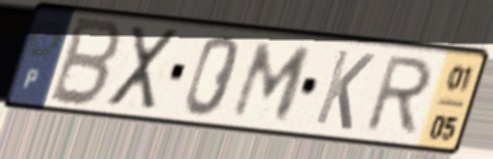0: (182, 32, 243, 120)
B: (45, 13, 128, 111)
K: (311, 46, 379, 134)
M: (227, 38, 317, 123)
R: (360, 53, 438, 138)
X: (104, 22, 182, 113)
